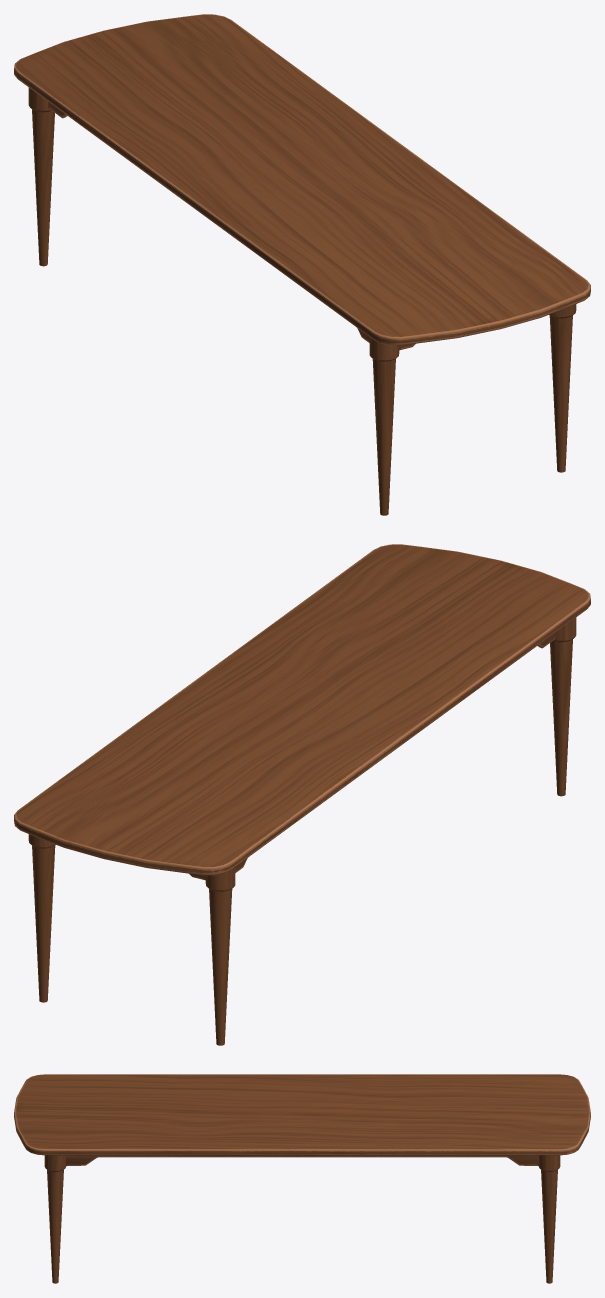
The model's file is M_Furniture_006.fbx.
3 views of the same model, one above another, from view 1: azimuth 30°, elevation 25°; view 2: azimuth 150°, elevation 25°; view 3: azimuth 270°, elevation 25° (orthographic). The views are drawn at different scales.
Visible parts, largest first — view 1: M_Furniture_006; view 2: M_Furniture_006; view 3: M_Furniture_006.
Boxes of the visible parts, box(x1,y1,x2,y2) form: M_Furniture_006: box(14, 14, 590, 515); M_Furniture_006: box(14, 544, 590, 1045); M_Furniture_006: box(14, 1074, 590, 1283).
Bounding box in the file's own units: 67.86 × 57.98 × 218.
Materials: 1 (1 with a texture image).
